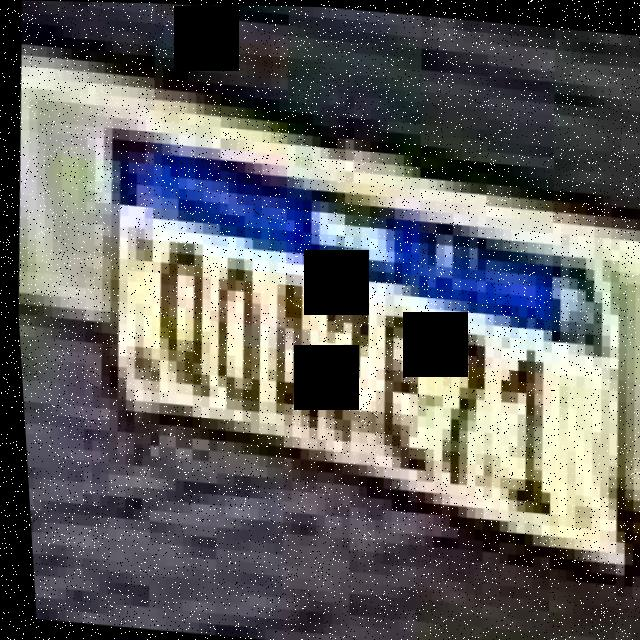1: (480, 332, 560, 525)
7: (420, 312, 496, 500), (305, 278, 377, 451)
A: (254, 268, 325, 435)
E: (362, 295, 438, 469)
Q: (196, 246, 269, 411), (141, 236, 212, 394)
